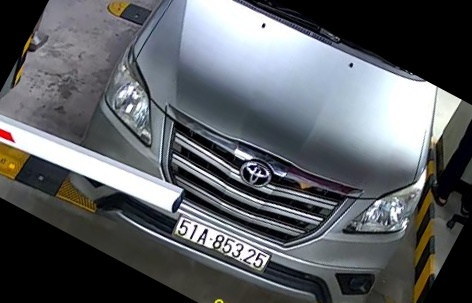plate: (172, 216, 274, 275)
